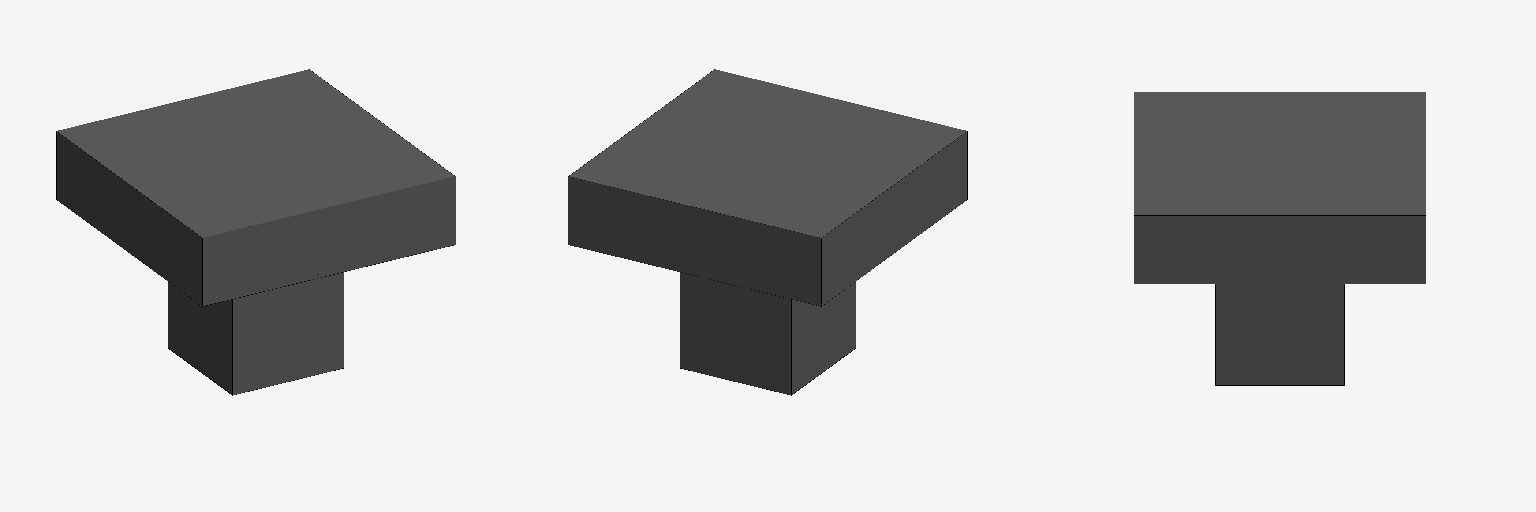
3 views of the same model, side by side, from view 1: azimuth 30°, elevation 25°; view 2: azimuth 150°, elevation 25°; view 3: azimuth 270°, elevation 25° (orthographic).
Visible parts, largest first — view 1: crane_pilon_Cube.001; view 2: crane_pilon_Cube.001; view 3: crane_pilon_Cube.001.
Boxes of the visible parts, box(x1,y1,x2,y2) form: crane_pilon_Cube.001: box(56, 69, 455, 395); crane_pilon_Cube.001: box(568, 69, 967, 395); crane_pilon_Cube.001: box(1134, 92, 1425, 385).
Size of the model in its own units: 2 by 1.55 by 2.
Materials: 1 (1 with a texture image).